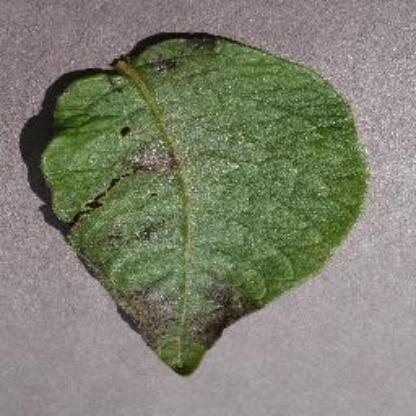Late-Blight: (11, 34, 388, 376)
